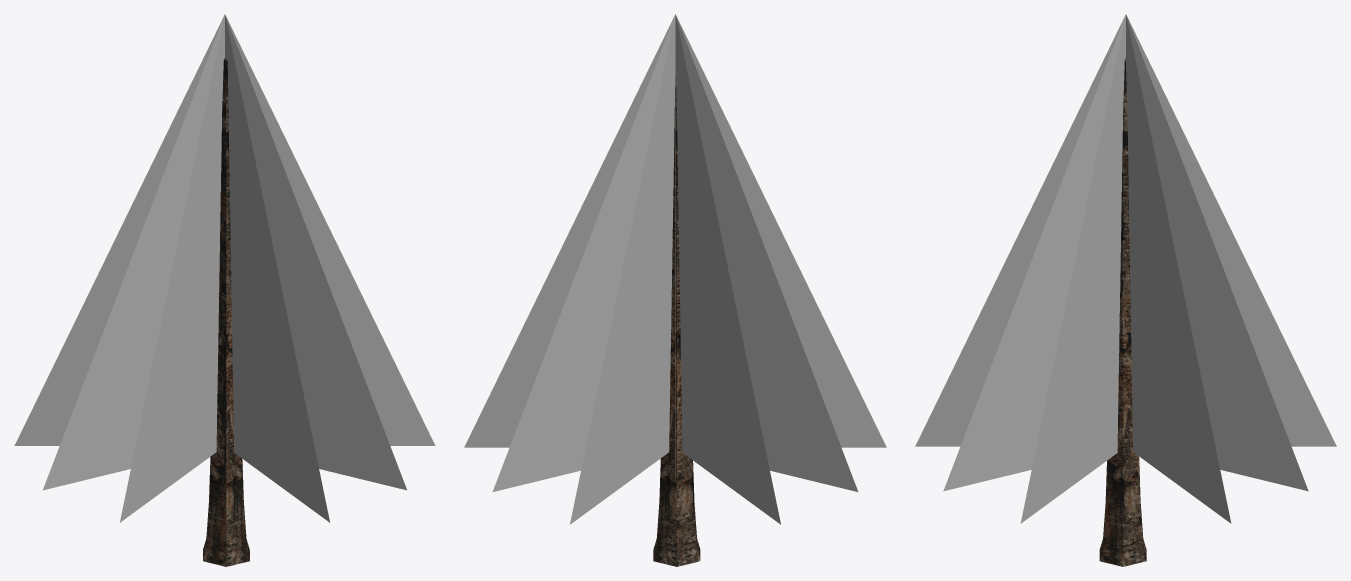
The model's file is Tree 1.fbx.
3 renders of one model, left to right at view 1: azimuth 30°, elevation 25°; view 2: azimuth 150°, elevation 25°; view 3: azimuth 270°, elevation 25°, orthographic.
Visible parts, largest first — view 1: Tree; view 2: Tree; view 3: Tree.
Part boxes in pixels (x1,y1,x2,y2): Tree: (14, 14, 435, 566); Tree: (464, 14, 886, 566); Tree: (915, 14, 1336, 566).
Size of the model in its own units: 1555 by 2201 by 1555.
